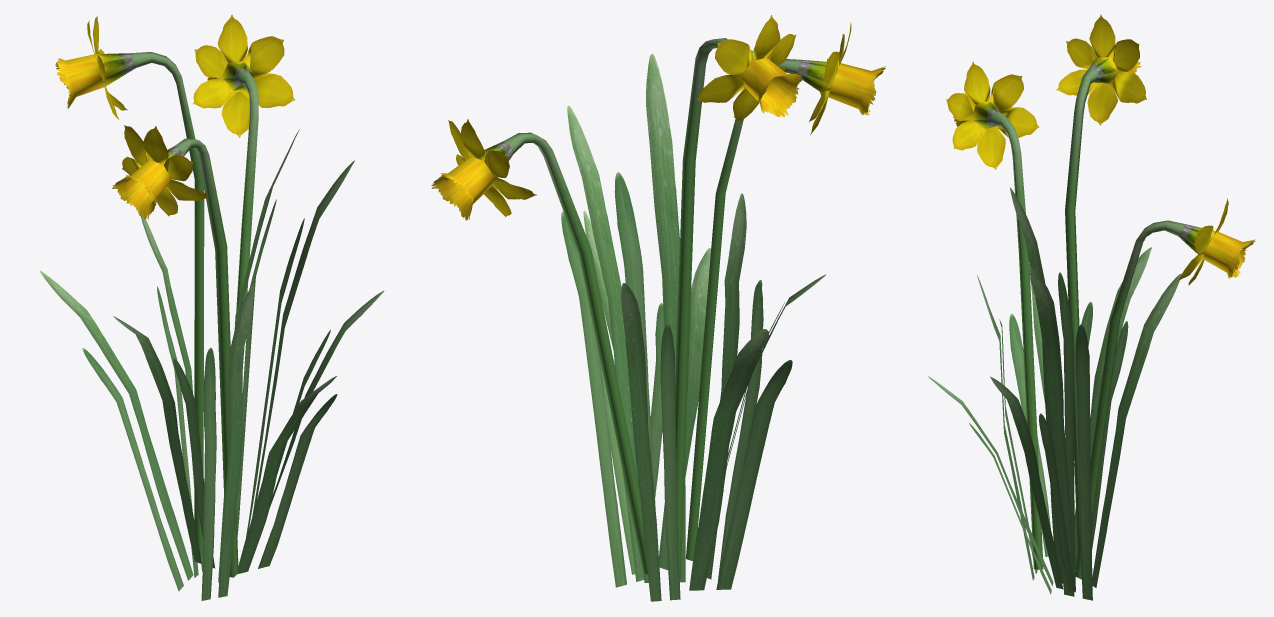
File: Narcissus2A.fbx
3 renders of one model, left to right at view 1: azimuth 30°, elevation 25°; view 2: azimuth 150°, elevation 25°; view 3: azimuth 270°, elevation 25°, orthographic. The views are drawn at different scales.
Visible parts, largest first — view 1: Narcissus2A_LOD0; view 2: Narcissus2A_LOD0; view 3: Narcissus2A_LOD0.
Part boxes in pixels (x1,y1,x2,y2): Narcissus2A_LOD0: [40, 15, 384, 600]; Narcissus2A_LOD0: [431, 15, 885, 601]; Narcissus2A_LOD0: [927, 15, 1255, 600].
Size of what is drawn, in the model's own units: 36.44 by 62.87 by 37.03.
